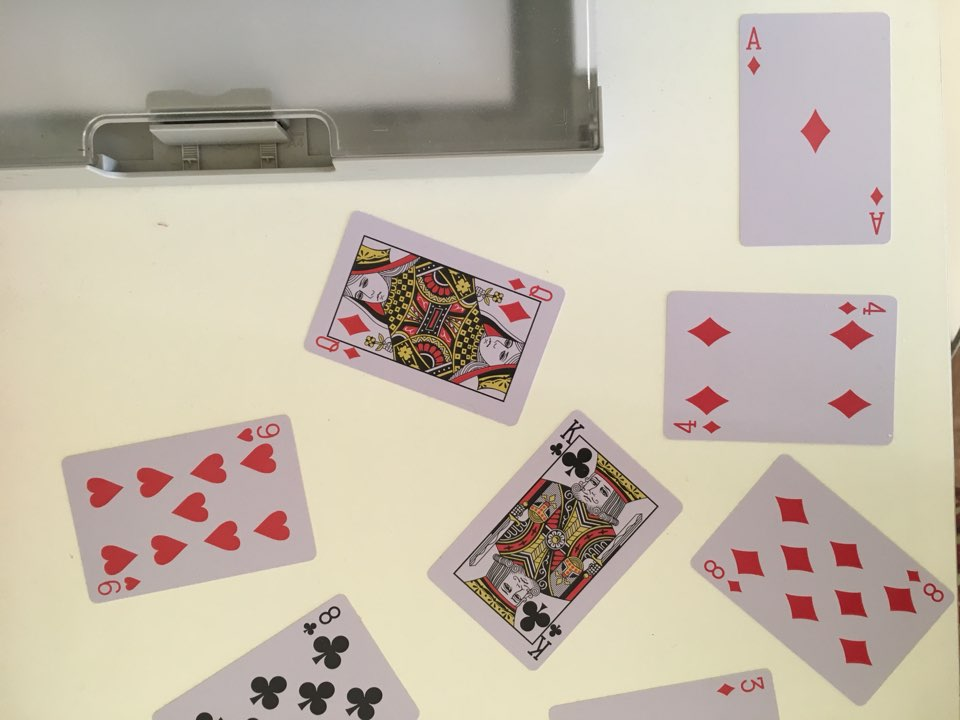ace: (730, 2, 902, 259)
king: (418, 405, 690, 682)
nine: (54, 401, 326, 607)
queen: (291, 201, 570, 432)
